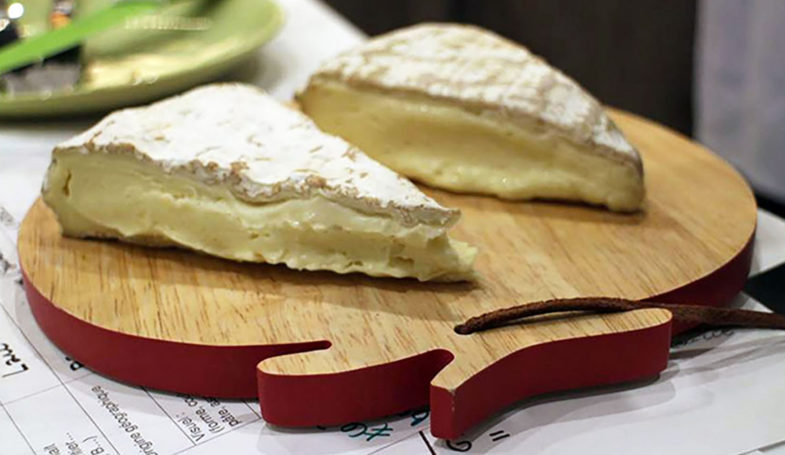camembert: (41, 81, 486, 293), (293, 21, 647, 217)
